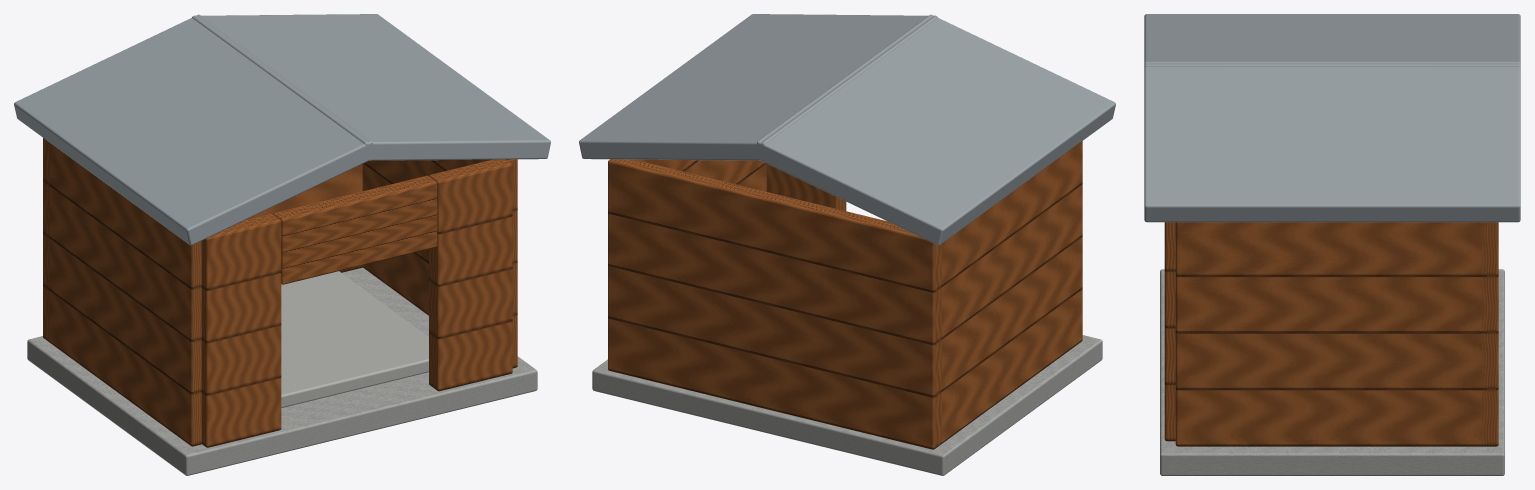
The model's file is prison-complex-builder-patrol-dog-kennel-1ea13ce3__25653.glb.
3 views of the same model, side by side, from view 1: azimuth 30°, elevation 25°; view 2: azimuth 150°, elevation 25°; view 3: azimuth 270°, elevation 25° (orthographic). The views are drawn at different scales.
Parts seen in each view (by area): view 1: patrol-dog-kennel; view 2: patrol-dog-kennel; view 3: patrol-dog-kennel.
Part boxes in pixels (x1=…): patrol-dog-kennel: x1=14, y1=14, x2=550, y2=475; patrol-dog-kennel: x1=579, y1=14, x2=1115, y2=475; patrol-dog-kennel: x1=1144, y1=14, x2=1520, y2=475.
Size of the model in its own units: 1.45 by 1.13 by 1.2.
Materials: 4 (2 with a texture image).
